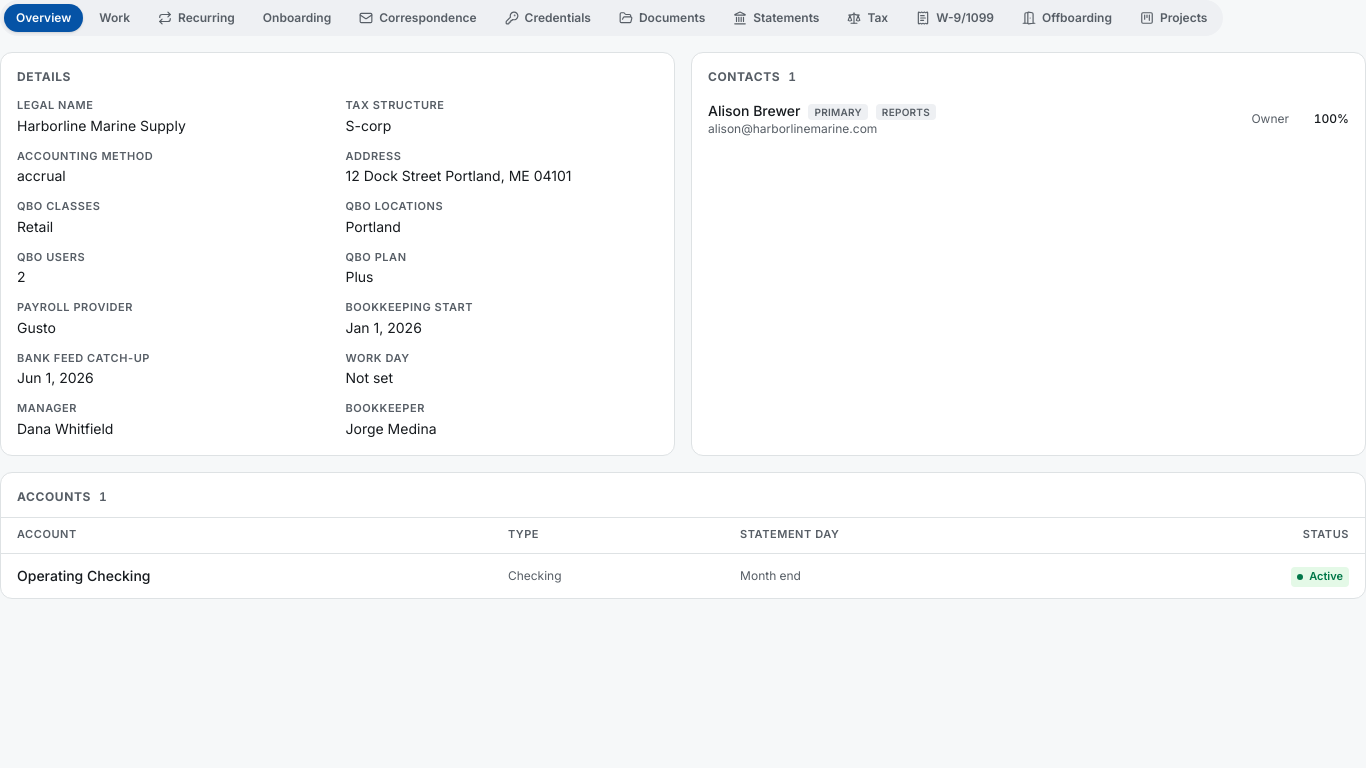
Test: ClientDetailTabs visibility rules › project-engagement clients get the explanatory Work empty state, no periodic rows
Click the tab "Work": (115, 18) left=87, top=4, right=142, bottom=32
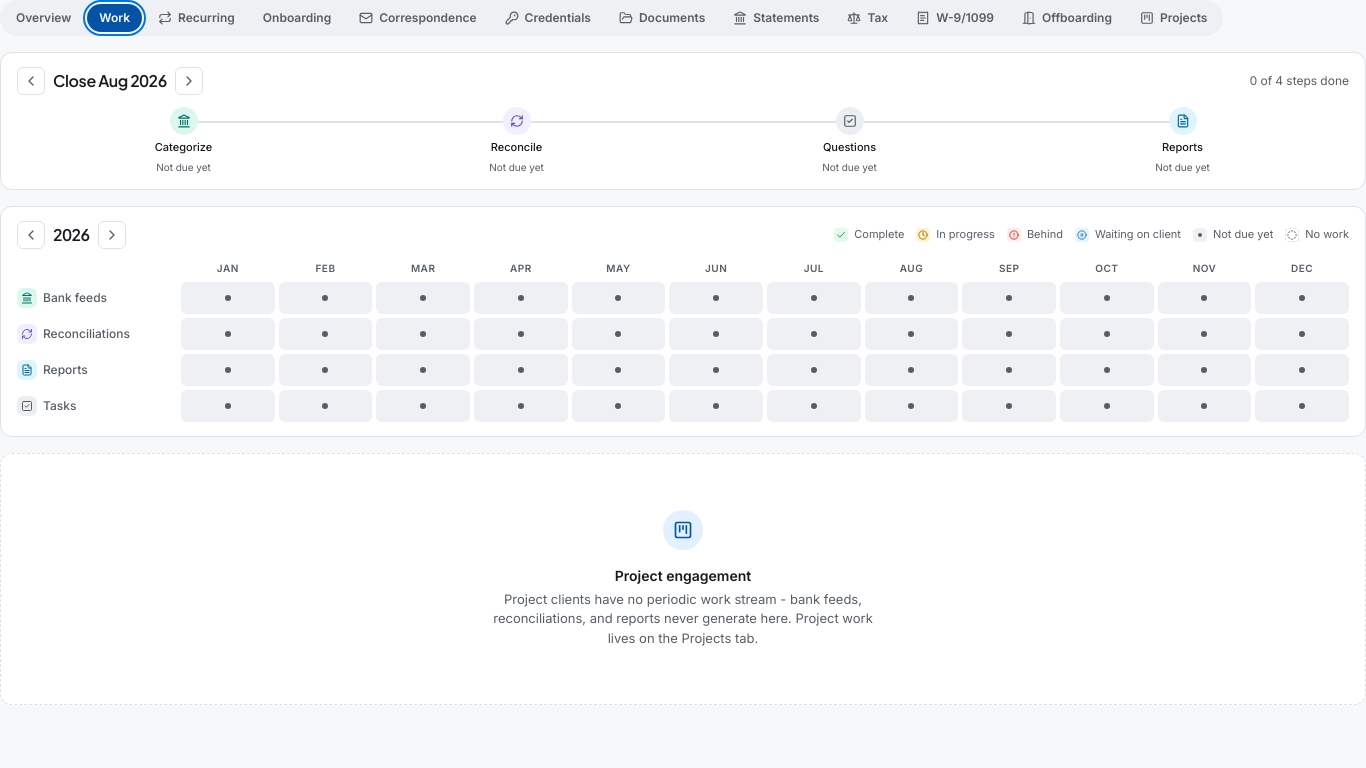
Result: the heading "Project engagement" is shown at left=615, top=566, right=751, bottom=586
Result: the text "no periodic work stream" is shown at left=493, top=590, right=873, bottom=646
